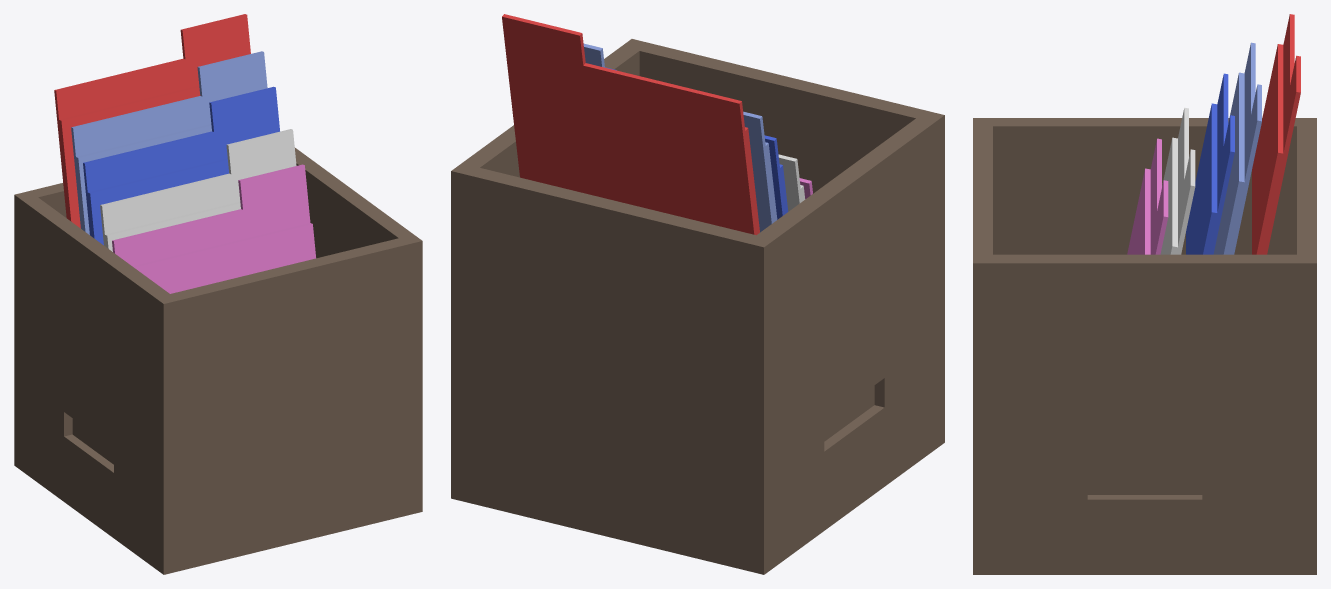
File: folder.fbx
3 renders of one model, left to right at view 1: azimuth 30°, elevation 25°; view 2: azimuth 150°, elevation 25°; view 3: azimuth 270°, elevation 25°, orthographic. The views are drawn at different scales.
Visible parts, largest first — view 1: Cube, Plane.004, Plane.002, Plane, Plane.001, Plane.003; view 2: Cube, Plane, Plane.001, Plane.002, Plane.003; view 3: Cube, Plane, Plane.002, Plane.001, Plane.003, Plane.004.
Boxes of the visible parts, x1,y1,x2,y2 form: Cube: (14, 147, 422, 574); Plane.004: (112, 164, 315, 293); Plane.002: (83, 86, 279, 245); Plane: (54, 14, 250, 228); Plane.001: (71, 51, 267, 234); Plane.003: (100, 129, 296, 251); Cube: (451, 39, 944, 574); Plane: (502, 14, 759, 235); Plane.001: (583, 43, 777, 232); Plane.002: (605, 67, 788, 219); Plane.003: (778, 154, 805, 211); Cube: (973, 118, 1316, 574); Plane: (1252, 14, 1300, 254); Plane.002: (1186, 73, 1234, 254); Plane.001: (1213, 42, 1261, 254); Plane.003: (1160, 107, 1195, 254); Plane.004: (1127, 138, 1168, 254).
Bounding box in the file's own units: 200 × 297 × 200.
